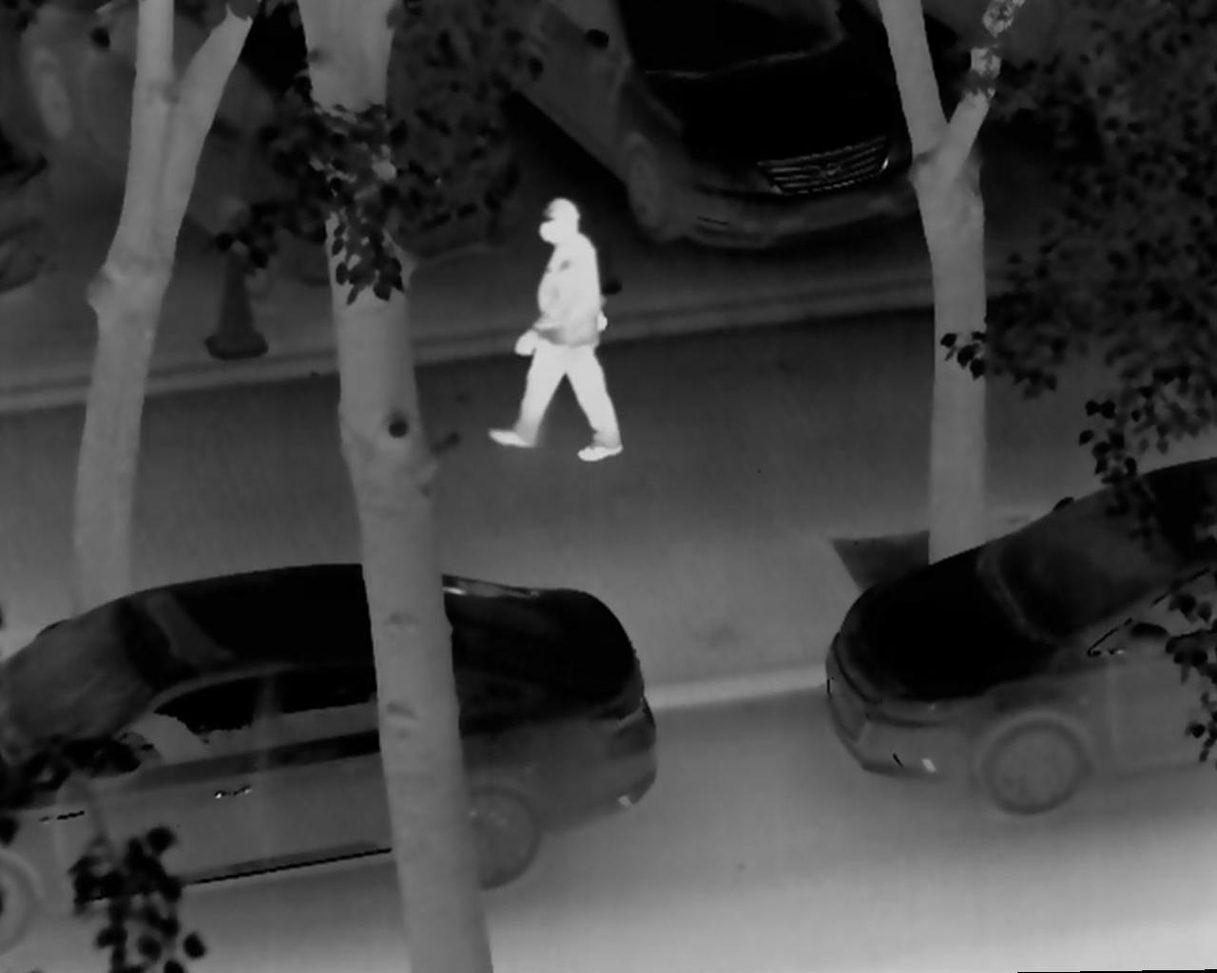person: (485, 196, 626, 468)
